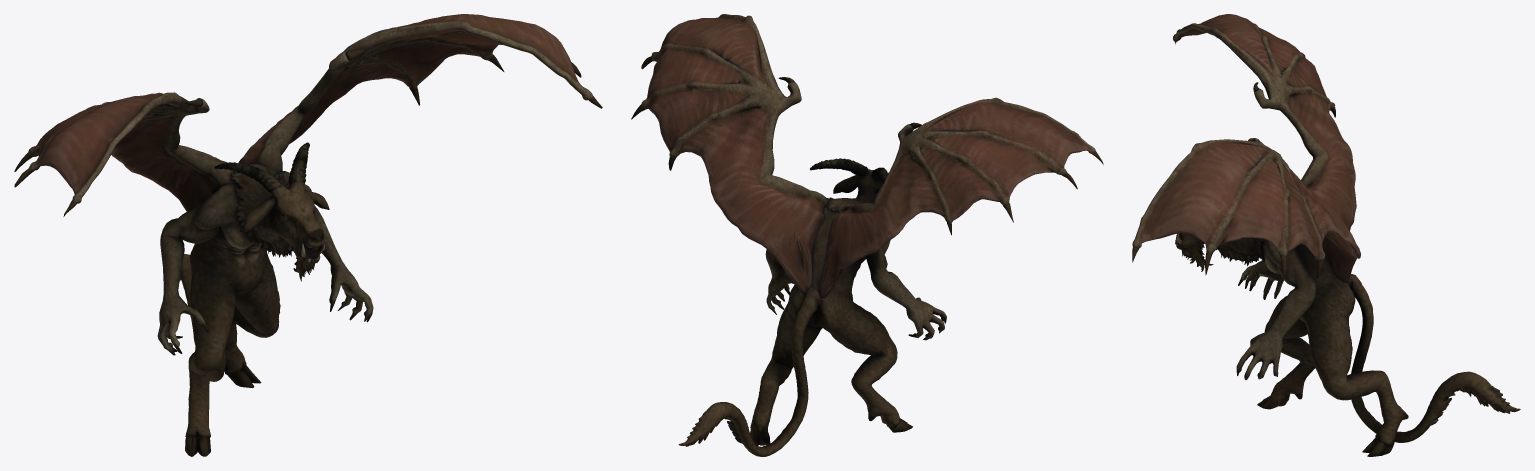
The model's file is MZ4250 - Jersey Devil.glb.
The picture shows the model from 3 angles, left to right: view 1: azimuth 30°, elevation 25°; view 2: azimuth 150°, elevation 25°; view 3: azimuth 270°, elevation 25°; orthographic projection. The views are drawn at different scales.
Parts seen in each view (by area): view 1: Goat-Man sculpted.001; view 2: Goat-Man sculpted.001; view 3: Goat-Man sculpted.001.
Boxes of the visible parts, left/top/right/bottom form: Goat-Man sculpted.001: left=14, top=14, right=602, bottom=456; Goat-Man sculpted.001: left=631, top=14, right=1103, bottom=456; Goat-Man sculpted.001: left=1132, top=14, right=1520, bottom=456.
Size of the model in its own units: 1.49 by 1.07 by 1.05.
Materials: 1 (1 with a texture image).
